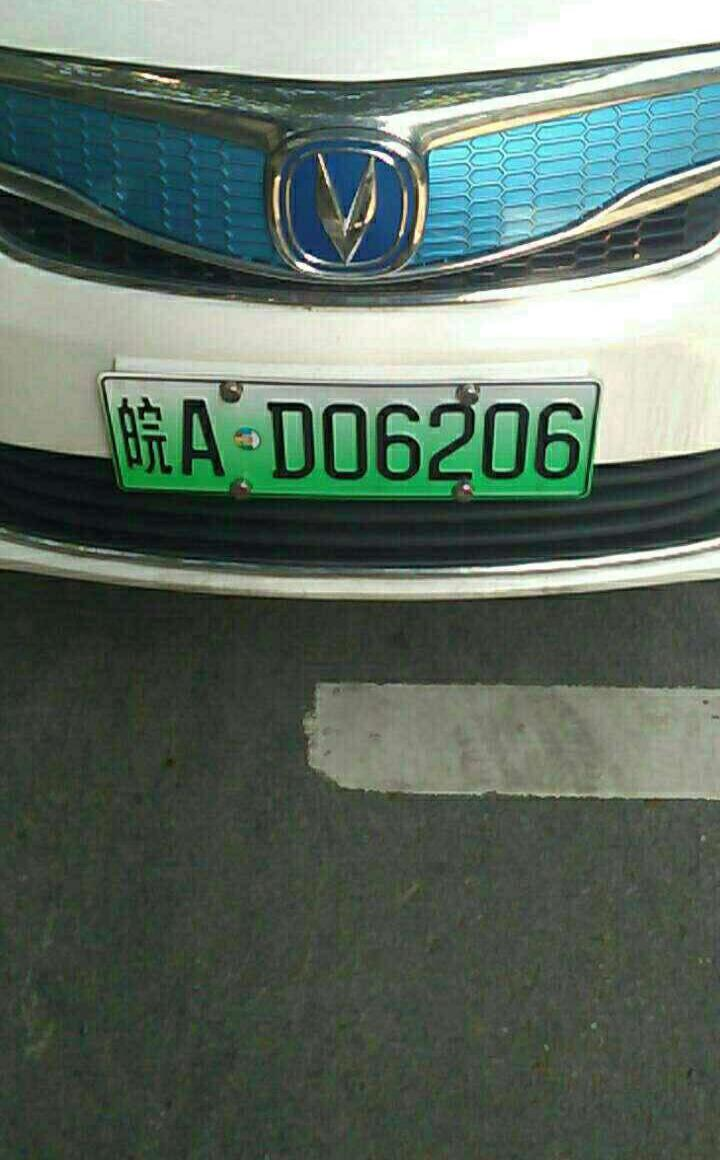car_green: (93, 366, 604, 513)
